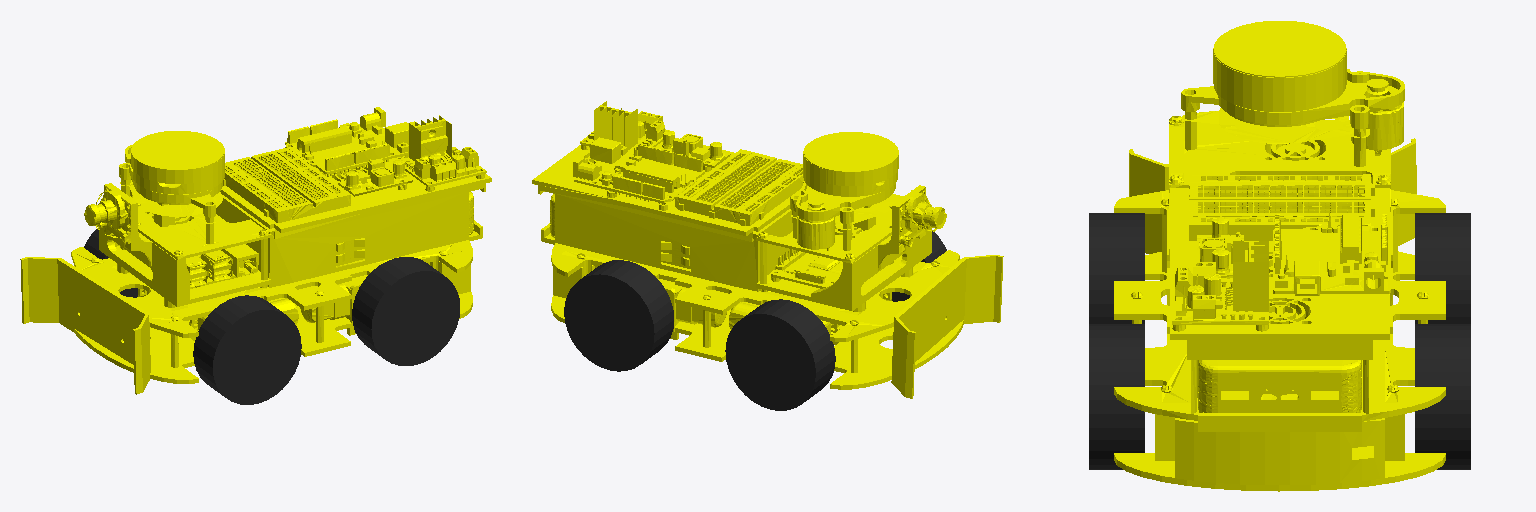
robot.urdf — robot:
<?xml version="1.0" encoding="utf-8"?>
<robot name="robot">

  <!-- Base Link -->
  <link name="base_link">
    <inertial>
      <origin xyz="0.0121459734710621 0.000198241570210142 0.0449906840595474" rpy="0 0 0" />
      <mass value="1.00796524149794" />
      <inertia
        ixx="0.000664022840014205"
        ixy="3.36477372709559E-06"
        ixz="-6.46022439037541E-06"
        iyy="0.00190520705036307"
        iyz="5.00471440887707E-10"
        izz="0.00244406959005576" />
    </inertial>
    <visual>
      <origin xyz="0 0 0" rpy="0 0 0" />
      <geometry>
        <mesh filename="package://robot_description/meshes/base_link.STL" />
      </geometry>
      <material name="yellow">
        <color rgba="1 1 0 1" />
      </material>
    </visual>
    <!-- Simple box instead of the mesh (fast, stable physics); sized from the mesh bounding box -->
    <collision>
      <origin xyz="-0.005 0 0.042" rpy="0 0 0" />
      <geometry>
        <box size="0.27 0.15 0.10" />
      </geometry>
    </collision>
  </link>

  <!-- Left Rear Wheel -->
  <link name="left_rear_wheel">
    <inertial>
      <origin xyz="0 0 0" rpy="0 0 0" />
      <mass value="0.0310322138231813" />
      <inertia
        ixx="1.37618924502922E-05"
        ixy="0"
        ixz="0"
        iyy="1.37620600377143E-05"
        iyz="0"
        izz="2.28600342994284E-05" />
    </inertial>
    <visual>
      <origin xyz="0 0 0" rpy="0 0 0" />
      <geometry>
        <cylinder radius="0.033" length="0.025"/>
      </geometry>
      <material name="black">
        <color rgba="0.2 0.2 0.2 1" />
      </material>
    </visual>
    <collision>
      <origin xyz="0 0 0" rpy="0 0 0" />
      <geometry>
        <cylinder radius="0.033" length="0.025"/>
      </geometry>
    </collision>
  </link>

  <joint name="leftrearwheel" type="continuous">
    <origin xyz="0.0588 -0.07355 0.011" rpy="-1.5708 0 -3.1416" />
    <parent link="base_link" />
    <child link="left_rear_wheel" />
    <axis xyz="0 0 -1" />
    <limit effort="100" velocity="100" />
    <dynamics damping="0.1" friction="0.1" />
  </joint>

  <!-- Right Rear Wheel -->
  <link name="right_rear_wheel">
    <inertial>
      <origin xyz="0 0 0" rpy="0 0 0" />
      <mass value="0.0310322138231813" />
      <inertia
        ixx="1.37618924502922E-05"
        ixy="0"
        ixz="0"
        iyy="1.37620600377143E-05"
        iyz="0"
        izz="2.28600342994284E-05" />
    </inertial>
    <visual>
      <origin xyz="0 0 0" rpy="0 0 0" />
      <geometry>
        <cylinder radius="0.033" length="0.025"/>
      </geometry>
      <material name="black">
        <color rgba="0.2 0.2 0.2 1" />
      </material>
    </visual>
    <collision>
      <origin xyz="0 0 0" rpy="0 0 0" />
      <geometry>
        <cylinder radius="0.033" length="0.025"/>
      </geometry>
    </collision>
  </link>

  <joint name="rightrearwheel" type="continuous">
    <origin xyz="0.058826 0.07355 0.011" rpy="-1.5708 0 -3.1416" />
    <parent link="base_link" />
    <child link="right_rear_wheel" />
    <axis xyz="0 0 -1" />
    <limit effort="100" velocity="100" />
    <dynamics damping="0.1" friction="0.1" />
  </joint>

  <!-- Left Front Wheel -->
  <link name="left_front_wheel">
    <inertial>
      <origin xyz="0 0 0" rpy="0 0 0" />
      <mass value="0.0310322138231813" />
      <inertia
        ixx="1.37618924502922E-05"
        ixy="0"
        ixz="0"
        iyy="1.37620600377143E-05"
        iyz="0"
        izz="2.28600342994284E-05" />
    </inertial>
    <visual>
      <origin xyz="0 0 0" rpy="0 0 0" />
      <geometry>
        <cylinder radius="0.033" length="0.025"/>
      </geometry>
      <material name="black">
        <color rgba="0.2 0.2 0.2 1" />
      </material>
    </visual>
    <collision>
      <origin xyz="0 0 0" rpy="0 0 0" />
      <geometry>
        <cylinder radius="0.033" length="0.025"/>
      </geometry>
    </collision>
  </link>

  <joint name="left_front_wheel_joint" type="continuous">
    <origin xyz="-0.058826 -0.07355 0.011" rpy="-1.5708 0 -3.1416" />
    <parent link="base_link" />
    <child link="left_front_wheel" />
    <axis xyz="0 0 -1" />
    <limit effort="100" velocity="100" />
    <dynamics damping="0.1" friction="0.1" />
  </joint>

  <!-- Right Front Wheel -->
  <link name="right_front_wheel">
    <inertial>
      <origin xyz="0 0 0" rpy="0 0 0" />
      <mass value="0.0310322138231806" />
      <inertia
        ixx="1.37618924502919E-05"
        ixy="0"
        ixz="0"
        iyy="1.3762060037714E-05"
        iyz="0"
        izz="2.28600342994278E-05" />
    </inertial>
    <visual>
      <origin xyz="0 0 0" rpy="0 0 0" />
      <geometry>
        <cylinder radius="0.033" length="0.025"/>
      </geometry>
      <material name="black">
        <color rgba="0.2 0.2 0.2 1" />
      </material>
    </visual>
    <collision>
      <origin xyz="0 0 0" rpy="0 0 0" />
      <geometry>
        <cylinder radius="0.033" length="0.025"/>
      </geometry>
    </collision>
  </link>

  <joint name="rightfrontwheel" type="continuous">
    <origin xyz="-0.0588 0.07355 0.011" rpy="-1.5708 0 -3.1416" />
    <parent link="base_link" />
    <child link="right_front_wheel" />
    <axis xyz="0 0 -1" />
    <limit effort="100" velocity="100" />
    <dynamics damping="0.1" friction="0.1" />
  </joint>

  <!-- LiDAR Link -->
  <link name="lidar_link">
    <inertial>
      <origin xyz="0 0 0" rpy="0 0 0"/>
      <mass value="0.125"/>
      <inertia ixx="0.001" ixy="0" ixz="0" iyy="0.001" iyz="0" izz="0.001"/>
    </inertial>
    <visual>
      <origin xyz="0 0 0" rpy="0 0 0"/>
      <geometry>
        <cylinder radius="0.03" length="0.01"/>
      </geometry>
      <material name="lidar_jaune">
        <color rgba="1 1 0 1"/>
      </material>
    </visual>
    <collision>
      <origin xyz="0 0 0" rpy="0 0 0"/>
      <geometry>
        <cylinder radius="0.03" length="0.01"/>
      </geometry>
    </collision>
  </link>

  <joint name="lidar_joint" type="fixed">
    <origin xyz="-0.068 0 0.12" rpy="0 0 0"/>
    <parent link="base_link"/>
    <child link="lidar_link"/>
  </joint>

  <!-- Camera Link -->
  <link name="camera_link">
    <inertial>
      <origin xyz="0 0 0" rpy="0 0 0"/>
      <mass value="0.08"/>
      <inertia ixx="0.0001" ixy="0" ixz="0" iyy="0.0001" iyz="0" izz="0.0001"/>
    </inertial>
    <visual>
      <origin xyz="0 0 0" rpy="0 0 0"/>
      <geometry>
        <box size="0.01 0.01 0.03"/>
      </geometry>
      <material name="camera_jaune">
        <color rgba="1 1 0 1"/>
      </material>
    </visual>
    <collision>
      <origin xyz="0 0 0" rpy="0 0 0"/>
      <geometry>
        <box size="0.001 0.001 0.03"/>
      </geometry>
    </collision>
  </link>

  <joint name="camera_joint" type="fixed">
    <origin xyz="-0.078 0 0.09" rpy="0 0 3.15"/>
    <parent link="base_link"/>
    <child link="camera_link"/>
  </joint>

  <!-- Camera Optical Frame -->
  <link name="camera_optical_link"/>

  <joint name="camera_optical_joint" type="fixed">
    <origin xyz="0 0 0" rpy="-1.5707963267948966 0 -1.5707963267948966"/>
    <parent link="camera_link"/>
    <child link="camera_optical_link"/>
  </joint>


  <!-- ================= Gazebo (gz-sim) ================= -->
  <gazebo reference="left_rear_wheel"><mu1>0.5</mu1><mu2>0.5</mu2></gazebo>
  <gazebo reference="right_rear_wheel"><mu1>0.5</mu1><mu2>0.5</mu2></gazebo>
  <gazebo reference="left_front_wheel"><mu1>0.5</mu1><mu2>0.5</mu2></gazebo>
  <gazebo reference="right_front_wheel"><mu1>0.5</mu1><mu2>0.5</mu2></gazebo>

  <!-- 2D LiDAR: 360 deg, 10 Hz -> gz topic /scan (bridged to /scan_raw, then relayed to /scan) -->
  <gazebo reference="lidar_link">
    <sensor name="lidar" type="gpu_lidar">
      <always_on>true</always_on>
      <update_rate>10</update_rate>
      <visualize>false</visualize>
      <topic>/scan</topic>
      <gz_frame_id>lidar_link</gz_frame_id>
      <lidar>
        <scan>
          <horizontal>
            <samples>360</samples>
            <resolution>1</resolution>
            <min_angle>-3.14159</min_angle>
            <max_angle>3.14159</max_angle>
          </horizontal>
        </scan>
        <range>
          <min>0.12</min>
          <max>10.0</max>
          <resolution>0.01</resolution>
        </range>
        <noise>
          <type>gaussian</type>
          <mean>0.0</mean>
          <stddev>0.01</stddev>
        </noise>
      </lidar>
    </sensor>
  </gazebo>

  <!-- 4-wheel skid-steer through the DiffDrive plugin.
       All four wheel joints rotate about +y; a positive rotation moves the robot toward +x.
       The URDF names are given for a robot whose front is -x (camera side), so seen from +x
       the wheels named "right*" (y>0) are on the LEFT: the names are swapped below on purpose.
       Consequence: cmd_vel linear.x > 0 drives toward +x (the lidar/camera side is the rear). -->
  <gazebo>
    <plugin filename="gz-sim-diff-drive-system" name="gz::sim::systems::DiffDrive">
      <left_joint>rightrearwheel</left_joint>
      <left_joint>rightfrontwheel</left_joint>
      <right_joint>leftrearwheel</right_joint>
      <right_joint>left_front_wheel_joint</right_joint>
      <wheel_separation>0.1471</wheel_separation>
      <wheel_radius>0.033</wheel_radius>
      <topic>/cmd_vel</topic>
      <odom_topic>/odom</odom_topic>
      <tf_topic>/tf</tf_topic>
      <frame_id>odom</frame_id>
      <child_frame_id>base_link</child_frame_id>
      <odom_publish_frequency>50</odom_publish_frequency>
      <max_linear_velocity>0.6</max_linear_velocity>
      <min_linear_velocity>-0.6</min_linear_velocity>
      <max_angular_velocity>2.0</max_angular_velocity>
      <min_angular_velocity>-2.0</min_angular_velocity>
    </plugin>

    <plugin filename="gz-sim-joint-state-publisher-system" name="gz::sim::systems::JointStatePublisher">
      <topic>/joint_states</topic>
    </plugin>
  </gazebo>

</robot>

--- Facts derived from the render (not from the file) ---
3 views of the same robot in one strip: view 1: azimuth 30°, elevation 25°; view 2: azimuth 150°, elevation 25°; view 3: azimuth 270°, elevation 25° (orthographic).
Model robot with 8 links and 7 joints (4 continuous, 3 fixed), rooted at base_link, posed every joint at zero.
Links seen in each view (by area): view 1: base_link, left_rear_wheel, left_front_wheel, lidar_link; view 2: base_link, right_rear_wheel, right_front_wheel, lidar_link; view 3: base_link, right_rear_wheel, left_rear_wheel, lidar_link, left_front_wheel, right_front_wheel.
Link boxes in pixels (bbox=[...]): base_link: bbox=[20, 107, 491, 394]; left_rear_wheel: bbox=[352, 257, 459, 365]; left_front_wheel: bbox=[193, 295, 301, 404]; lidar_link: bbox=[131, 131, 223, 183]; base_link: bbox=[532, 101, 1003, 398]; right_rear_wheel: bbox=[564, 260, 673, 371]; right_front_wheel: bbox=[725, 299, 835, 410]; lidar_link: bbox=[804, 132, 898, 185]; base_link: bbox=[1114, 50, 1445, 491]; right_rear_wheel: bbox=[1415, 324, 1470, 469]; left_rear_wheel: bbox=[1089, 324, 1144, 469]; lidar_link: bbox=[1213, 21, 1346, 77]; left_front_wheel: bbox=[1089, 213, 1144, 323]; right_front_wheel: bbox=[1415, 213, 1470, 323].
Bounding box of the posed robot: 0.2864 × 0.1721 × 0.147 m (x, y, z).
Meshes: 1 distinct files referenced, 1 mesh visuals loaded (1 binary STL).
